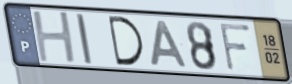8: (185, 20, 219, 72)
A: (149, 18, 189, 69)
D: (105, 14, 147, 68)
F: (217, 21, 253, 73)
H: (30, 10, 79, 64)
I: (74, 12, 95, 66)
